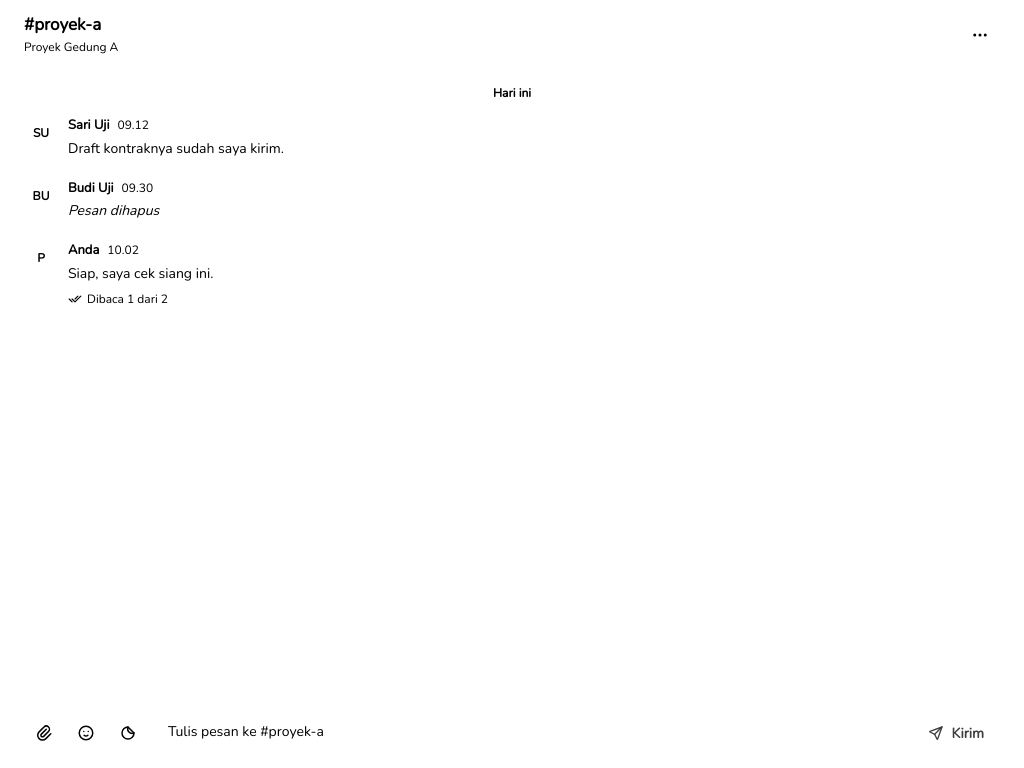
Menu pesan: isi › pesan sendiri: Balas, Beri reaksi, Salin teks, Lihat status baca, Hapus pesan
The width and height of the screenshot is (1024, 768).
Right-click the text "Siap, saya cek siang ini.": (141, 273) [68,264,213,283]
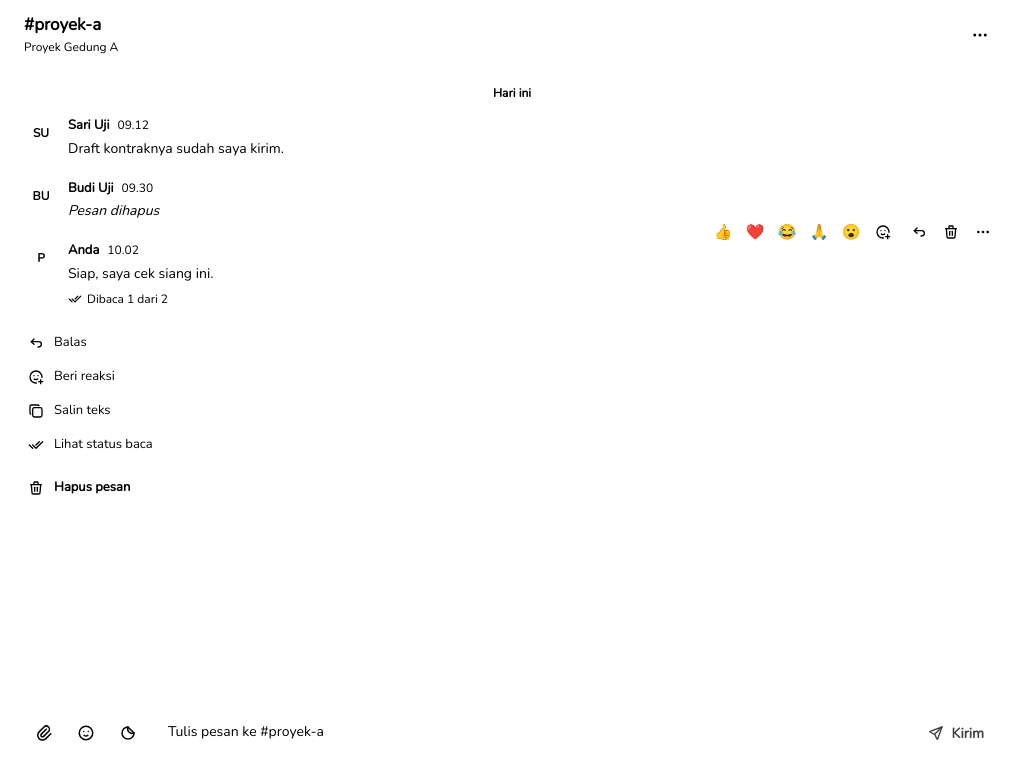
Expected: the menu named "Aksi untuk pesan Anda pukul 10.02" is shown, [14,322,214,509]
